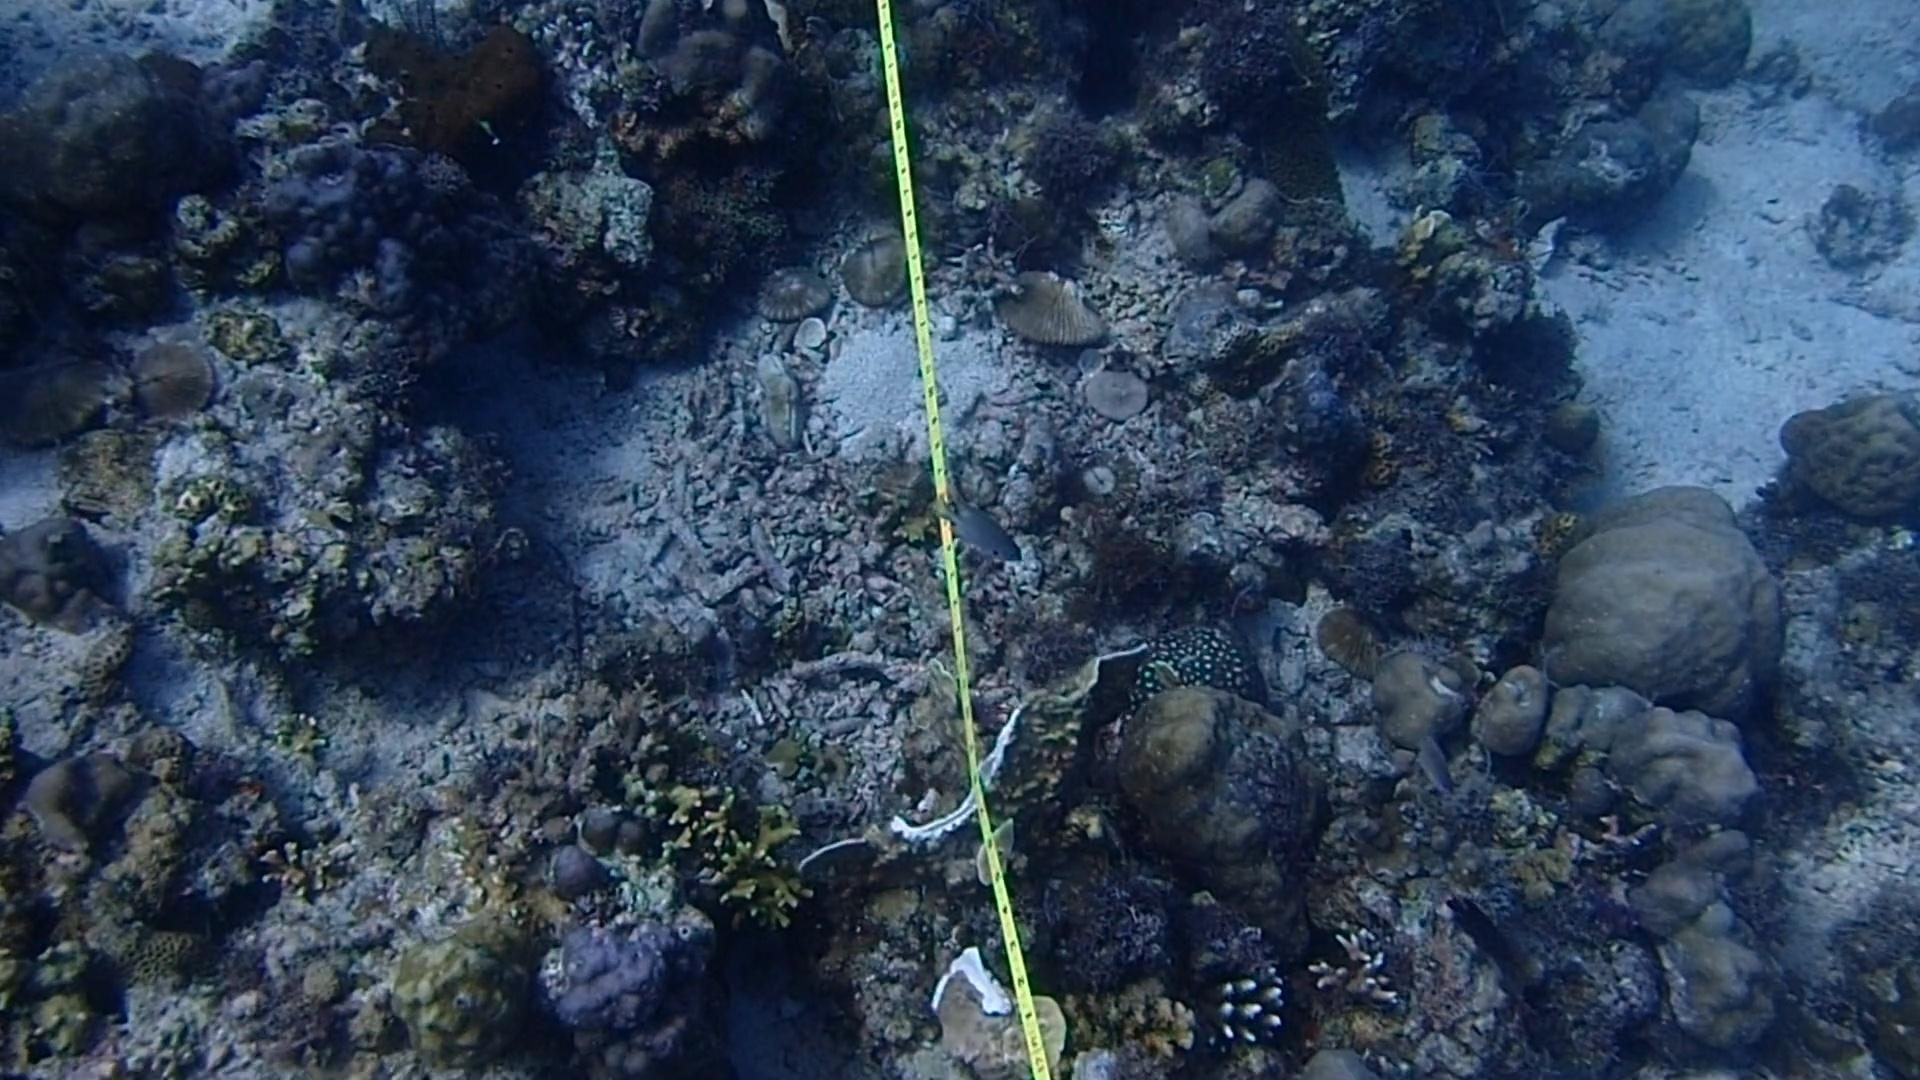Light Fish: (932, 496, 1033, 582)
